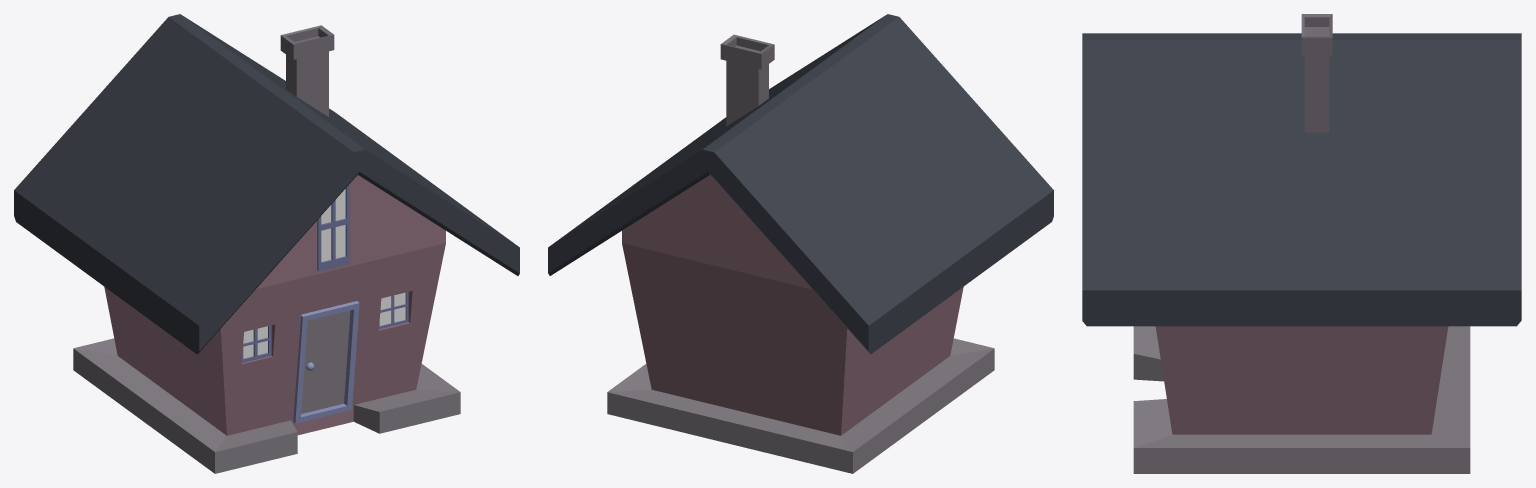
File: HOUSE CHIMNEY (RED).fbx
The picture shows the model from 3 angles, left to right: view 1: azimuth 30°, elevation 25°; view 2: azimuth 150°, elevation 25°; view 3: azimuth 270°, elevation 25°; orthographic projection. The views are drawn at different scales.
Visible parts, largest first — view 1: Roof, House, Door, Front Windows.002, Front Windows.001, Front Windows; view 2: Roof, House, Front Windows.002; view 3: Roof, House, Front Windows.002.
Boxes of the visible parts, x1=… form: Roof: x1=14, y1=14, x2=519, y2=354; House: x1=73, y1=175, x2=460, y2=473; Door: x1=293, y1=301, x2=359, y2=423; Front Windows.002: x1=280, y1=25, x2=334, y2=116; Front Windows.001: x1=317, y1=184, x2=349, y2=271; Front Windows: x1=241, y1=292, x2=408, y2=362; Roof: x1=548, y1=14, x2=1053, y2=354; House: x1=607, y1=174, x2=994, y2=473; Front Windows.002: x1=720, y1=34, x2=774, y2=126; Roof: x1=1082, y1=33, x2=1521, y2=326; House: x1=1133, y1=326, x2=1470, y2=473; Front Windows.002: x1=1301, y1=14, x2=1332, y2=132.
Size of the model in its own units: 1130 by 1148 by 1130.
